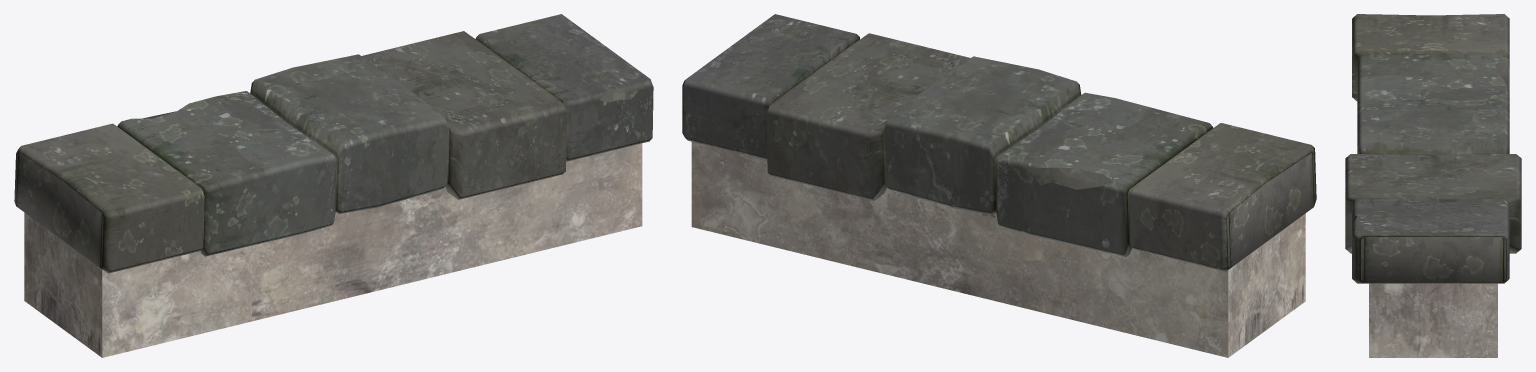
3 renders of one model, left to right at view 1: azimuth 30°, elevation 25°; view 2: azimuth 150°, elevation 25°; view 3: azimuth 270°, elevation 25°, orthographic. The views are drawn at different scales.
Visible parts, largest first — view 1: SM_Human_Ruins_Arch_Part_03v1_LOD0; view 2: SM_Human_Ruins_Arch_Part_03v1_LOD0; view 3: SM_Human_Ruins_Arch_Part_03v1_LOD0.
Boxes of the visible parts, x1,y1,x2,y2 form: SM_Human_Ruins_Arch_Part_03v1_LOD0: (14,14,653,357); SM_Human_Ruins_Arch_Part_03v1_LOD0: (682,14,1316,357); SM_Human_Ruins_Arch_Part_03v1_LOD0: (1345,14,1521,357).
Bounding box in the file's own units: 2.04 × 0.5803 × 0.6833.
2 materials, 2 textured.
